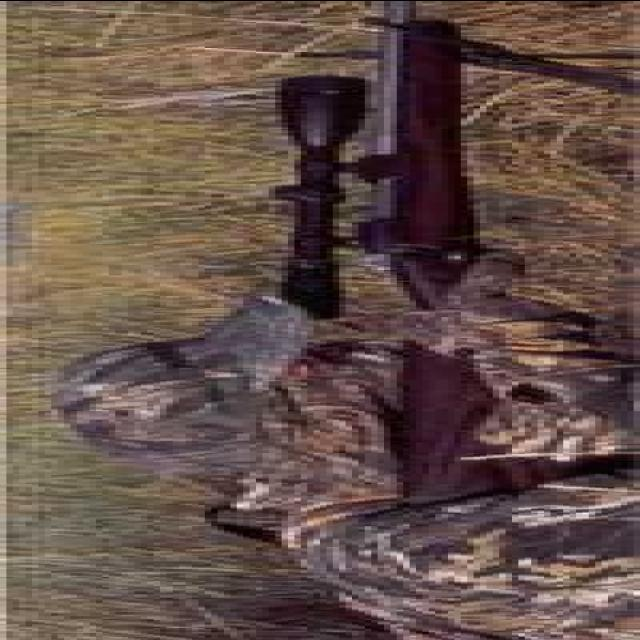heavyweapon: (193, 7, 640, 517)
